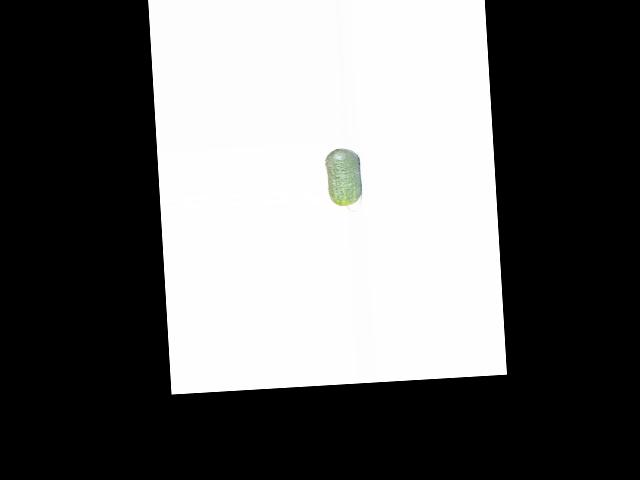cucumber: (324, 148, 363, 213)
